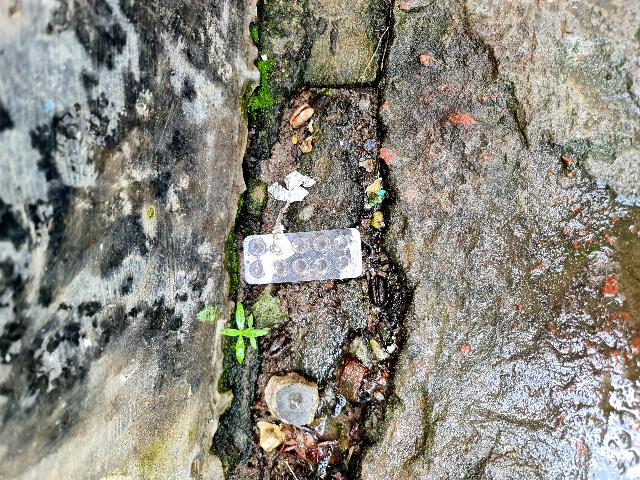medicine: (236, 229, 369, 287)
